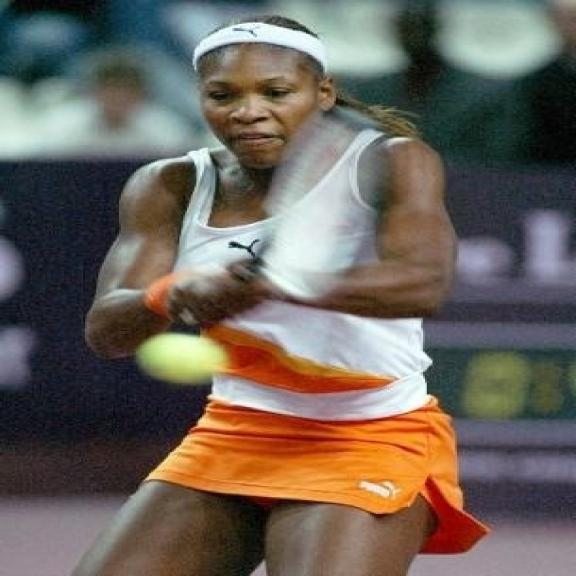face: (193, 20, 339, 172)
